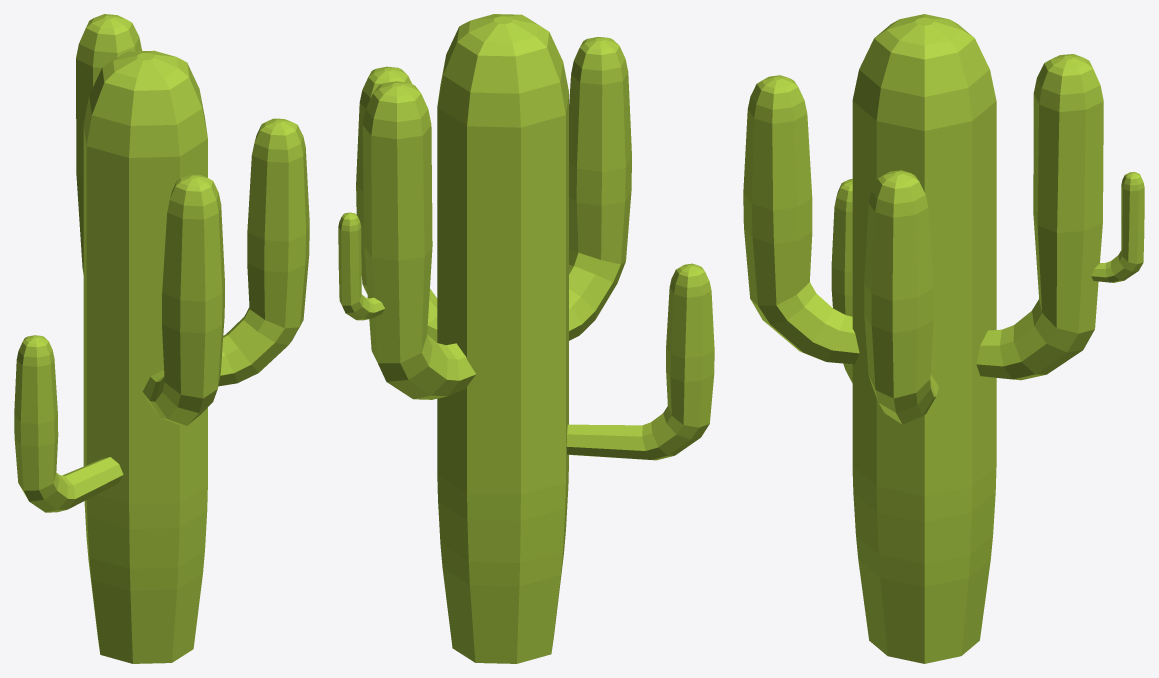
Rendered from Cactus.fbx.
3 views of the same model, side by side, from view 1: azimuth 30°, elevation 25°; view 2: azimuth 150°, elevation 25°; view 3: azimuth 270°, elevation 25° (orthographic). The views are drawn at different scales.
Parts seen in each view (by area): view 1: Cactus 001; view 2: Cactus 001; view 3: Cactus 001.
Part boxes in pixels (x1,y1,x2,y2): Cactus 001: (14, 14, 309, 663); Cactus 001: (338, 14, 714, 663); Cactus 001: (743, 14, 1144, 663).
Size of the model in its own units: 165 by 297 by 175.
